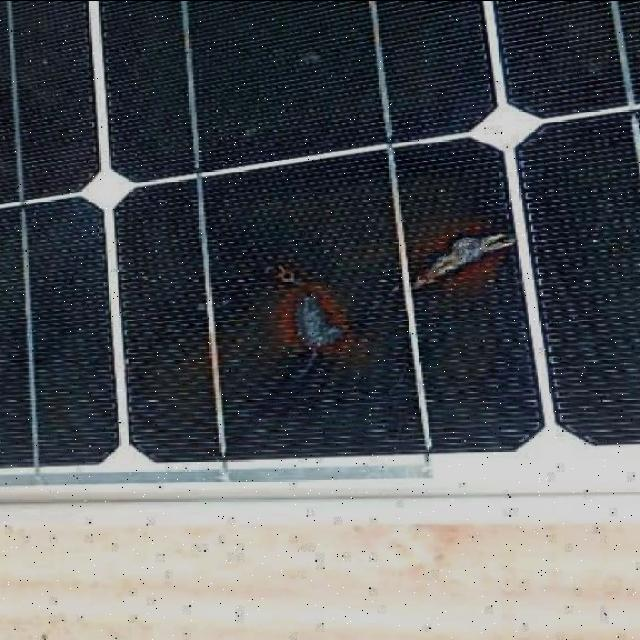Anomaly Solar Panel: (0, 0, 640, 500)
Structural Damage: (413, 217, 513, 286), (282, 284, 351, 358)
